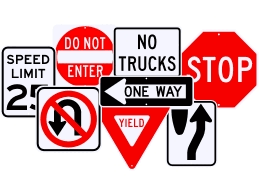Stop: (188, 35, 259, 105)
